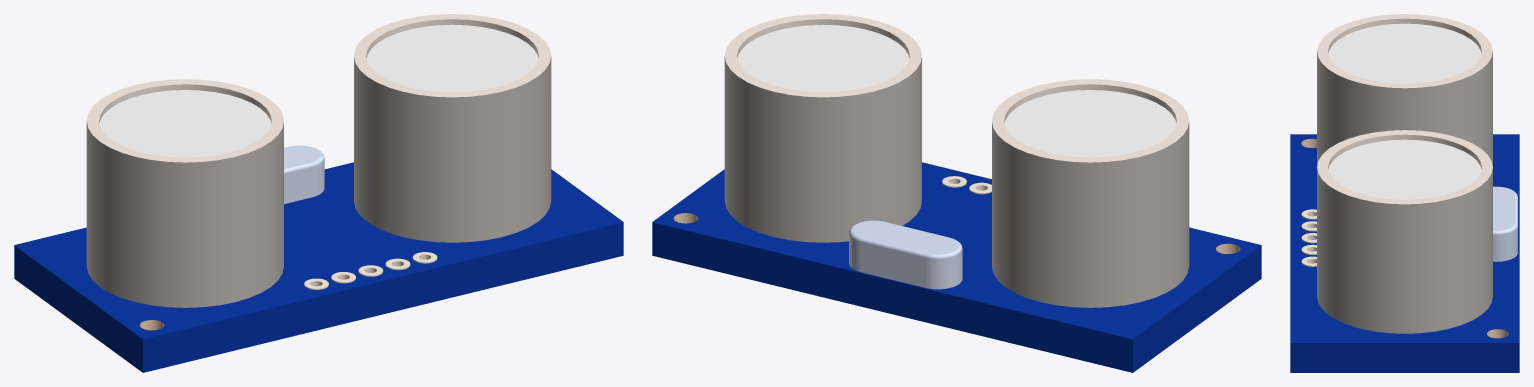
The model's file is ultrasonic_hysrf05.gltf.
3 views of the same model, side by side, from view 1: azimuth 30°, elevation 25°; view 2: azimuth 150°, elevation 25°; view 3: azimuth 270°, elevation 25° (orthographic). The views are drawn at different scales.
Visible parts, largest first — view 1: ultrasonic_hysrf05; view 2: ultrasonic_hysrf05; view 3: ultrasonic_hysrf05.
Part boxes in pixels (x1=…): ultrasonic_hysrf05: x1=14, y1=14, x2=623, y2=372; ultrasonic_hysrf05: x1=652, y1=14, x2=1261, y2=372; ultrasonic_hysrf05: x1=1290, y1=14, x2=1519, y2=372.
Bounding box in the file's own units: 0.045 × 0.0161 × 0.0209.
